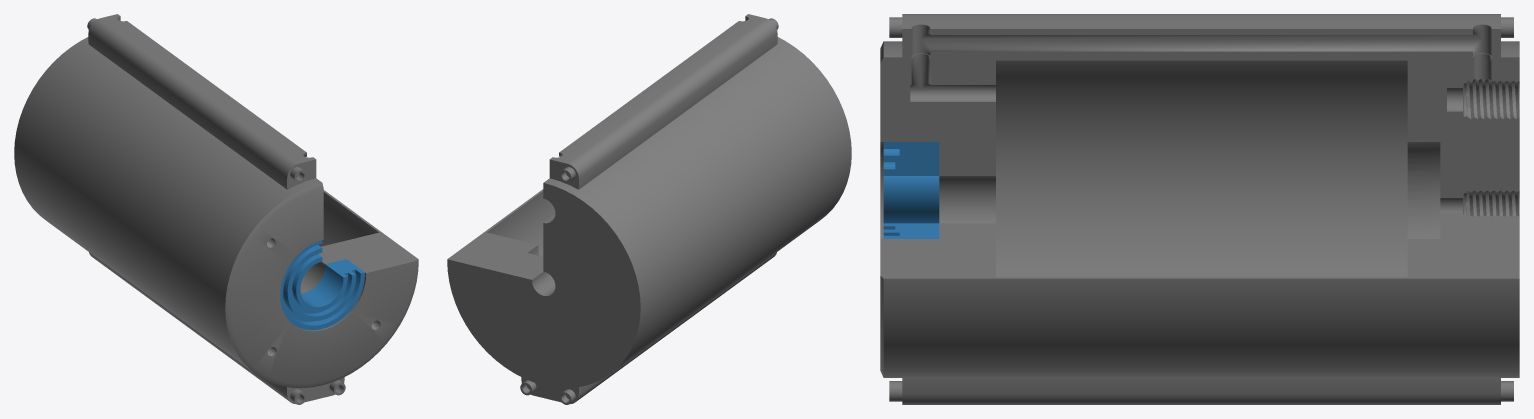
File: cilindar.obj
The picture shows the model from 3 angles, left to right: view 1: azimuth 30°, elevation 25°; view 2: azimuth 150°, elevation 25°; view 3: azimuth 270°, elevation 25°; orthographic projection. The views are drawn at different scales.
Parts seen in each view (by area): view 1: omotac, cilindardonji, prsten, cilindargornji; view 2: omotac, cilindargornji, cilindardonji; view 3: omotac, cilindargornji, cilindardonji, prsten.
Part boxes in pixels (x1,y1,x2,y2): omotac: [14, 14, 415, 404]; cilindardonji: [188, 168, 418, 388]; prsten: [280, 240, 364, 330]; cilindargornji: [14, 41, 117, 242]; omotac: [447, 14, 851, 404]; cilindargornji: [447, 168, 676, 387]; cilindardonji: [753, 41, 851, 246]; omotac: [883, 14, 1519, 404]; cilindargornji: [1407, 41, 1519, 377]; cilindardonji: [880, 41, 995, 377]; prsten: [883, 142, 939, 238].
Bounding box in the file's own units: 3.54 × 4.2 × 6.73.
